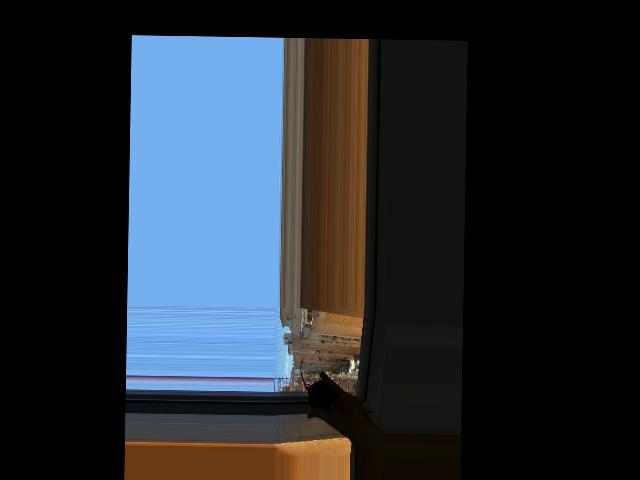beet: (299, 357, 334, 408)
